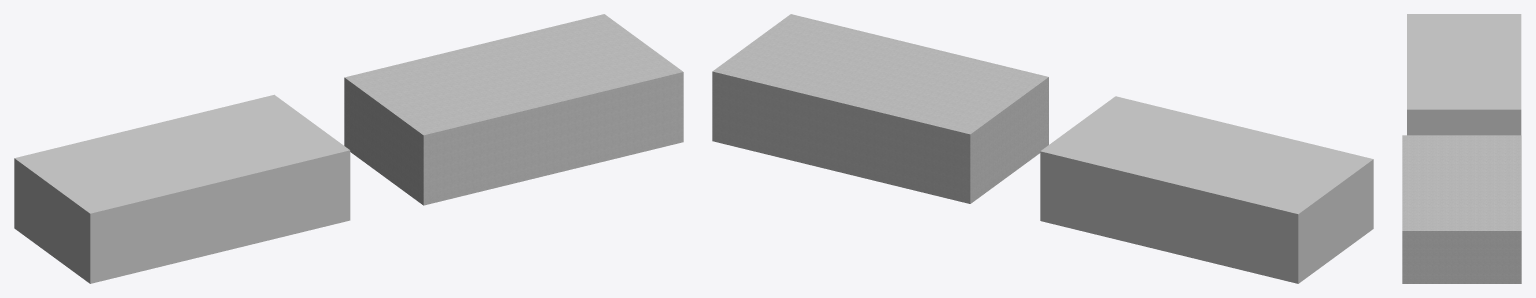
Rendered from Sodium_Hypochlorite_Storage_Tank.glb.
3 renders of one model, left to right at view 1: azimuth 30°, elevation 25°; view 2: azimuth 150°, elevation 25°; view 3: azimuth 270°, elevation 25°, orthographic. The views are drawn at different scales.
Parts seen in each view (by area): view 1: Floor1; view 2: Floor1; view 3: Floor1.
Part boxes in pixels (<box>): Floor1: <box>14,14,683,283</box>; Floor1: <box>712,14,1373,283</box>; Floor1: <box>1402,14,1521,283</box>.
Size of the model in its own units: 36.93 by 4.2 by 8.58.
Materials: 1 (1 with a texture image).
